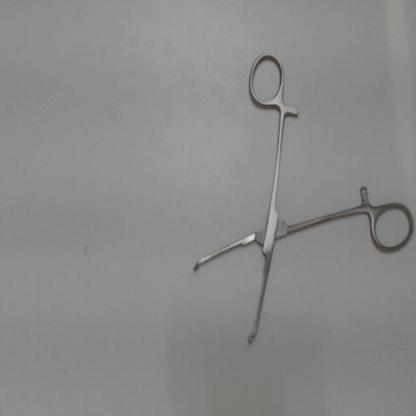Allis Tissue Forceps: (178, 46, 415, 358)
